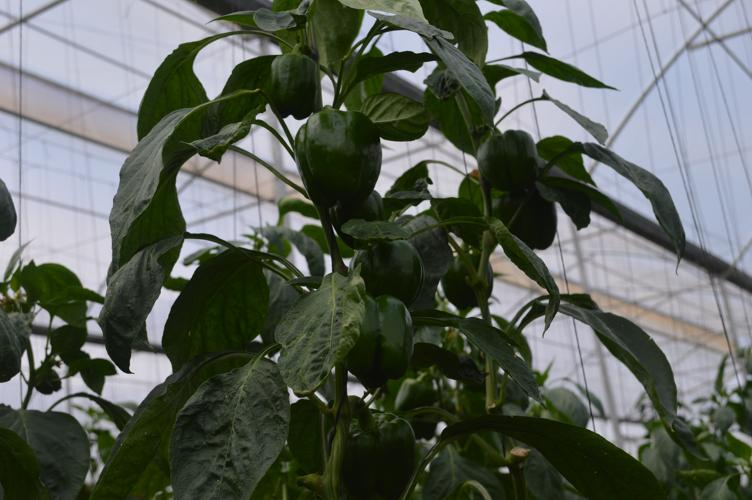BellPepper: (296, 112, 384, 203), (323, 413, 422, 492), (342, 297, 413, 383), (348, 238, 425, 305), (491, 190, 557, 253), (474, 128, 536, 191), (267, 54, 320, 117), (325, 192, 386, 243), (445, 253, 493, 310)
